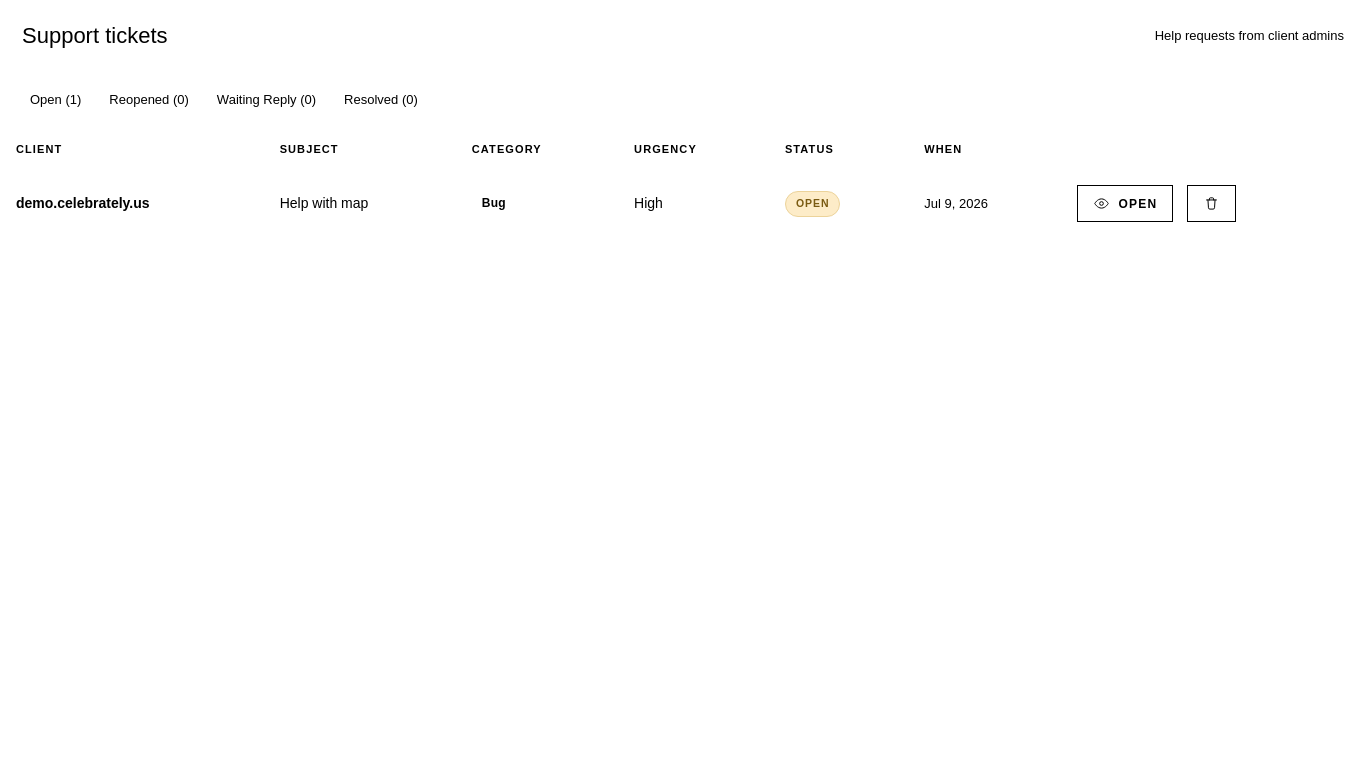
Test case: superadmin console — Support tab › mounts the Support tab and opens a ticket without crashing
The image size is (1366, 768).
Expected: the text "Help with map" is shown, x1=264 y1=171 x2=456 y2=236
Click the button "Open" at (1125, 204), box x1=1076 y1=185 x2=1173 y2=222
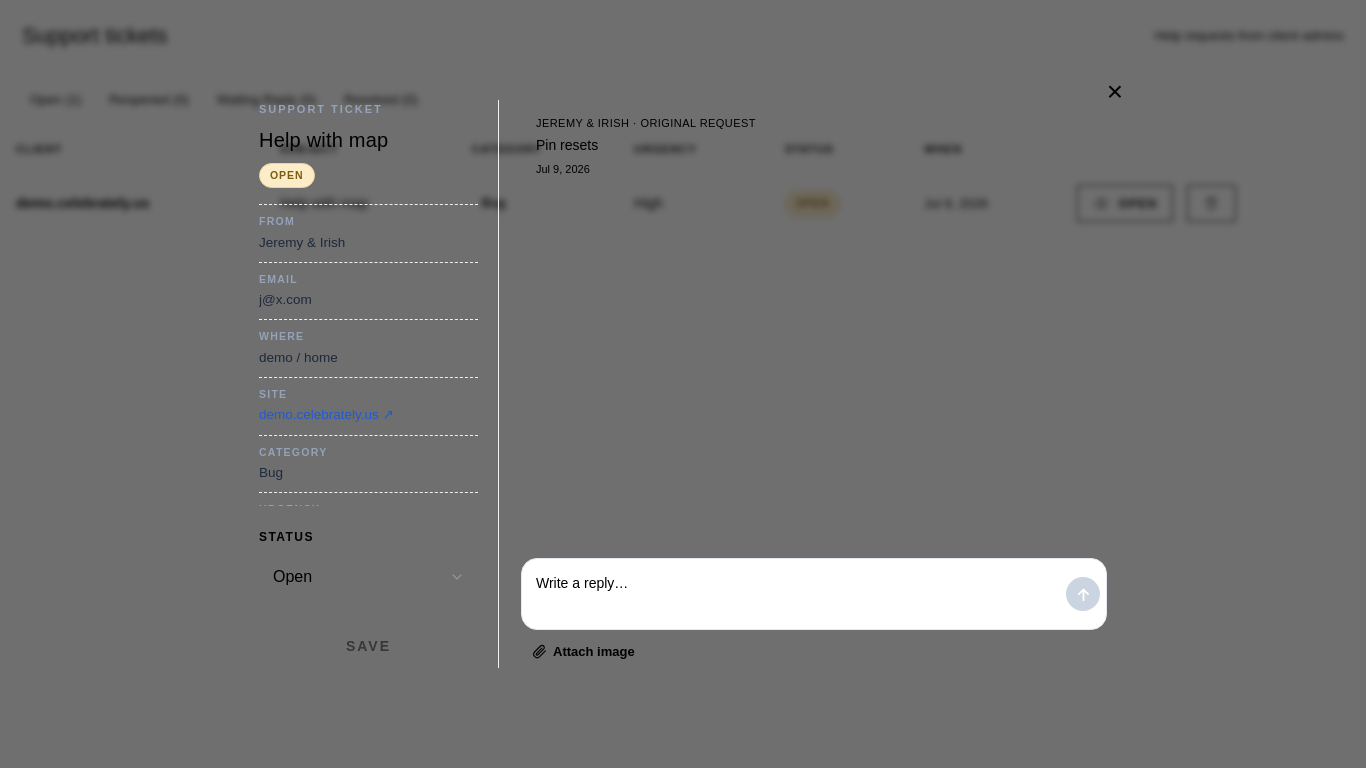
Expected: the text "Pin resets" is shown, x1=536 y1=137 x2=598 y2=153
